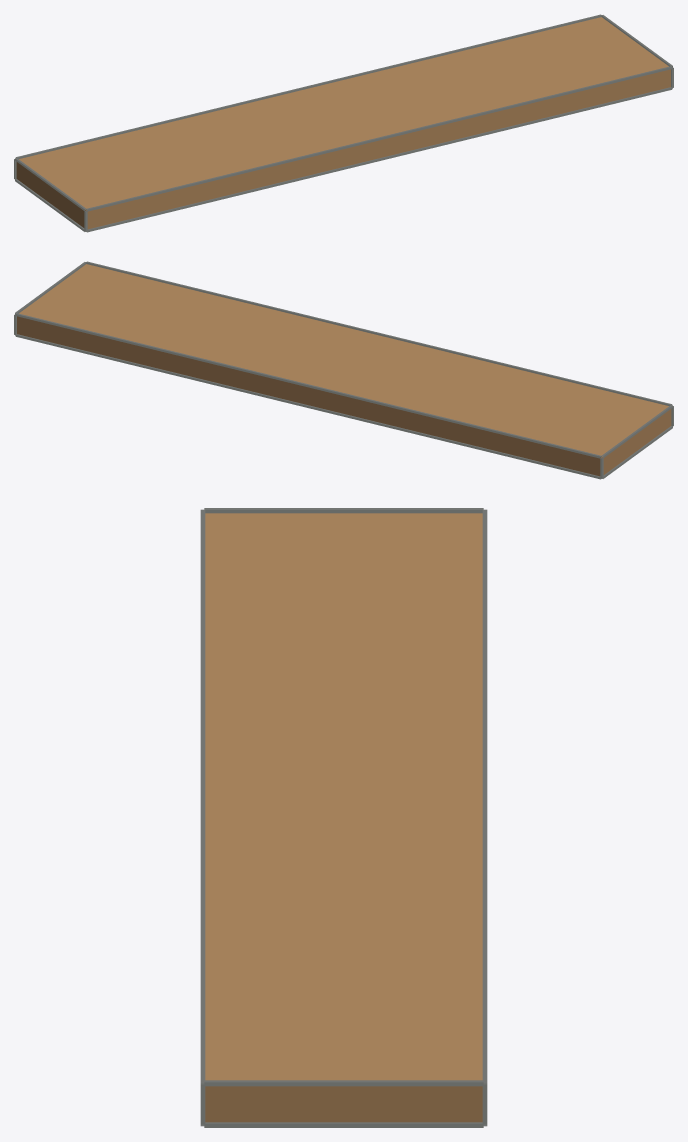
Rendered from modell.glb.
3 views of the same model, one above another, from view 1: azimuth 30°, elevation 25°; view 2: azimuth 150°, elevation 25°; view 3: azimuth 270°, elevation 25° (orthographic). The views are drawn at different scales.
Visible parts, largest first — view 1: 2026 068 R2; view 2: 2026 068 R2; view 3: 2026 068 R2.
Part boxes in pixels (x1,y1,x2,y2): 2026 068 R2: (14, 14, 673, 232); 2026 068 R2: (14, 261, 673, 479); 2026 068 R2: (200, 508, 487, 1127).
Bounding box in the file's own units: 598 × 22.13 × 126.
